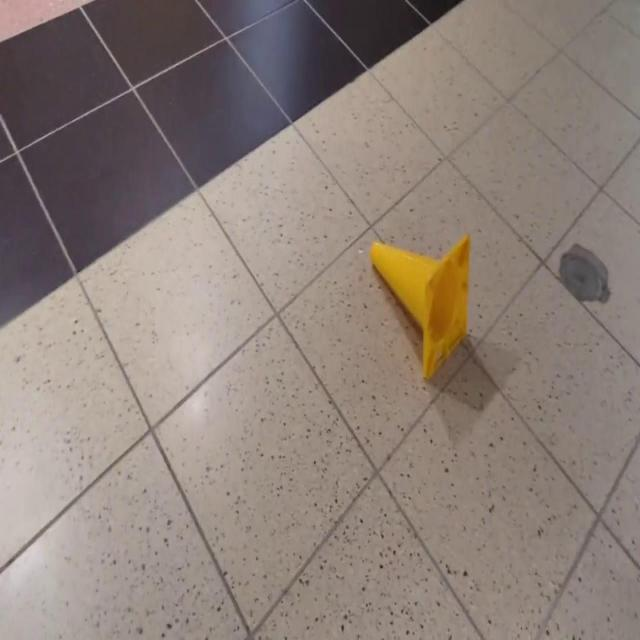frc_cone: (369, 232, 475, 384)
